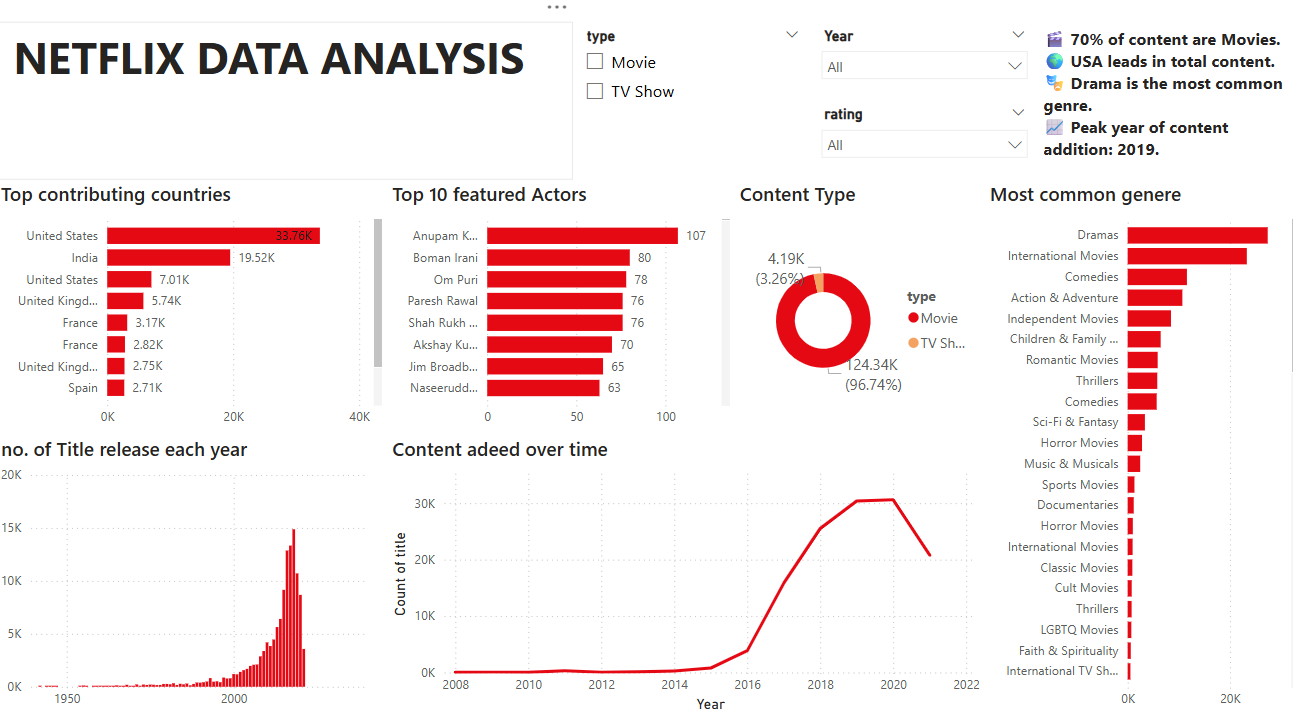

This screenshot's page, from the dashboard's own definition file:
{"tool":"powerbi","page":{"name":"Dashboard","canvas":[1280,720],"ordinal":0},"visuals":[{"type":"lineChart","title":"Content adeed over time","fields":{"Y":["netflix_titles.title"],"Category":["netflix_titles.Year"]},"box":[382.8,443.2,584.6,275.8],"z":0},{"type":"clusteredBarChart","title":"Top contributing countries","fields":{"Category":["netflix_titles.country"],"Y":["netflix_titles.title"]},"box":[0,193.2,382.7,249.5],"z":1000},{"type":"barChart","title":"Most common genere","fields":{"Y":["netflix_titles.title"],"Category":["netflix_titles.listed_in"]},"box":[967.3,193.2,313,525.8],"z":2000},{"type":"donutChart","title":"Content Type","fields":{"Y":["netflix_titles.type"],"Category":["netflix_titles.type"]},"box":[722.7,193.2,244.6,249.5],"z":3000},{"type":"columnChart","title":"no. of Title release each year","fields":{"Category":["netflix_titles.release_year"],"Y":["netflix_titles.title"]},"box":[0,443,383,276],"z":4000},{"type":"clusteredBarChart","title":"Top 10 featured Actors","fields":{"Y":["netflix_titles.title"],"Category":["netflix_titles.Actors"]},"box":[382.4,193,340.2,249.7],"z":5000},{"type":"textbox","box":[1019.4,37.4,260.6,155.6],"z":6000},{"type":"slicer","fields":{"Values":["netflix_titles.Year"]},"box":[797.5,37.4,222,77.2],"z":7000},{"type":"slicer","fields":{"Values":["netflix_titles.rating"]},"box":[797.5,114.6,222,77.2],"z":8000},{"type":"slicer","fields":{"Values":["netflix_titles.type"]},"box":[564.6,37.4,232.8,154.4],"z":9000},{"type":"textbox","box":[0,37.4,564.6,154.4],"z":10000}]}

Visuals, with their boxes in screenshot pixels (x1, y1, x2, y2), scaled from the page's 1280x720 canvas onto the 1293x712 screenshot:
"Content adeed over time" lineChart: 387:438:977:711
"Top contributing countries" clusteredBarChart: 0:191:387:438
"Most common genere" barChart: 977:191:1292:711
"Content Type" donutChart: 730:191:977:438
"no. of Title release each year" columnChart: 0:438:387:711
"Top 10 featured Actors" clusteredBarChart: 386:191:730:438
textbox: 1030:37:1292:191
slicer - netflix_titles.Year: 806:37:1030:113
slicer - netflix_titles.rating: 806:113:1030:190
slicer - netflix_titles.type: 570:37:805:190
textbox: 0:37:570:190
